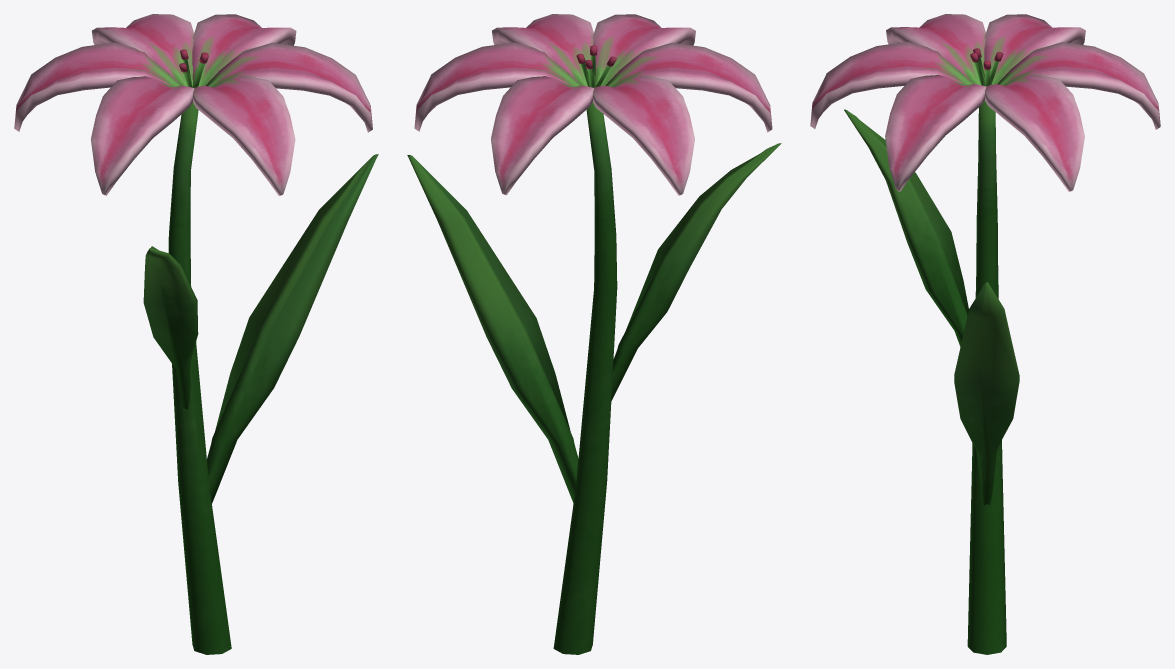
Rendered from Lirio.fbx.
3 renders of one model, left to right at view 1: azimuth 30°, elevation 25°; view 2: azimuth 150°, elevation 25°; view 3: azimuth 270°, elevation 25°, orthographic. The views are drawn at different scales.
Visible parts, largest first — view 1: Lirio; view 2: Lirio; view 3: Lirio.
Part boxes in pixels (<box>): Lirio: <box>14,14,378,654</box>; Lirio: <box>407,14,781,654</box>; Lirio: <box>810,14,1160,654</box>.
Size of the model in its own units: 159 by 283 by 153.
